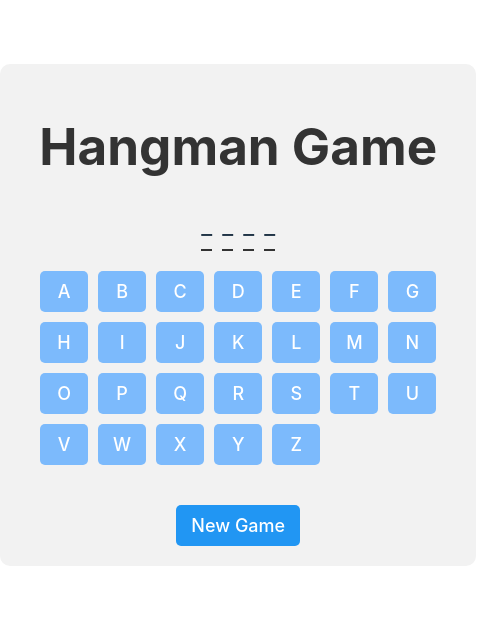
Test: HangmanGame › user loses the game when too many wrong letters are guessed
Click the button "F" at (354, 292), box [330,272,378,312]
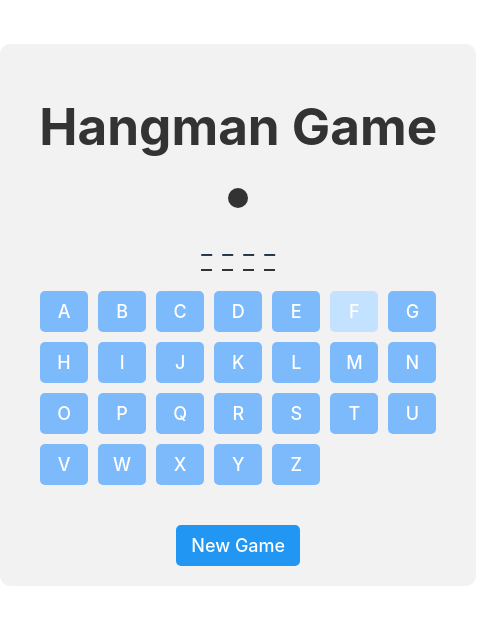
Click the button "Q" at (180, 414), box [156,394,204,434]
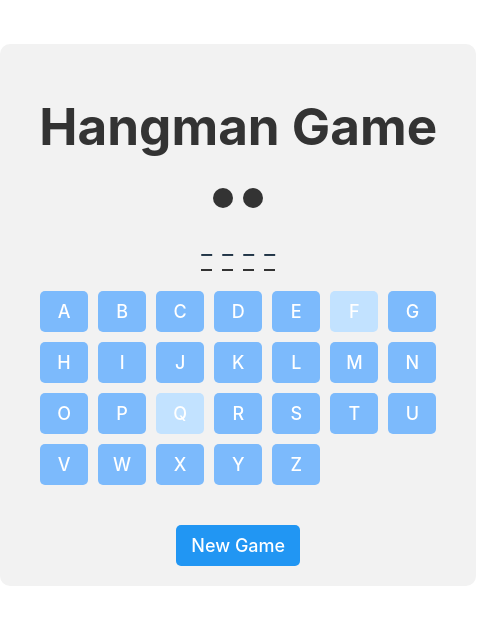
Click the button "A" at (64, 312), box [40,292,88,332]
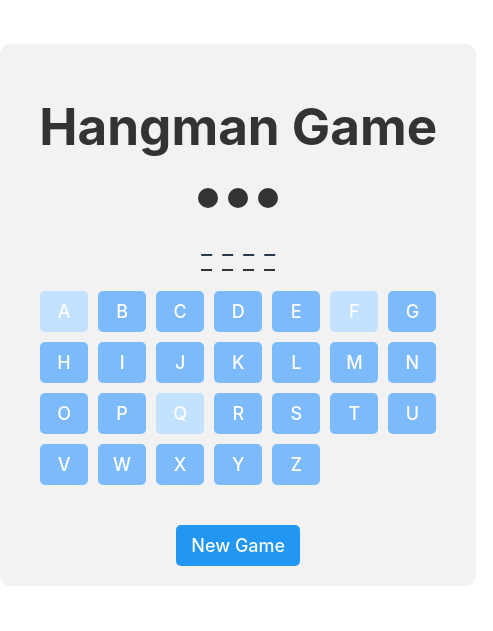
Click the button "K" at (238, 363), box [214,342,262,384]
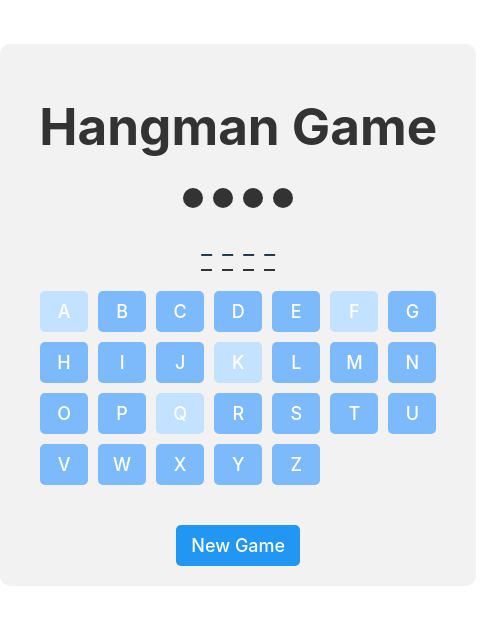
Click the button "L" at (296, 363), box [272,342,320,384]
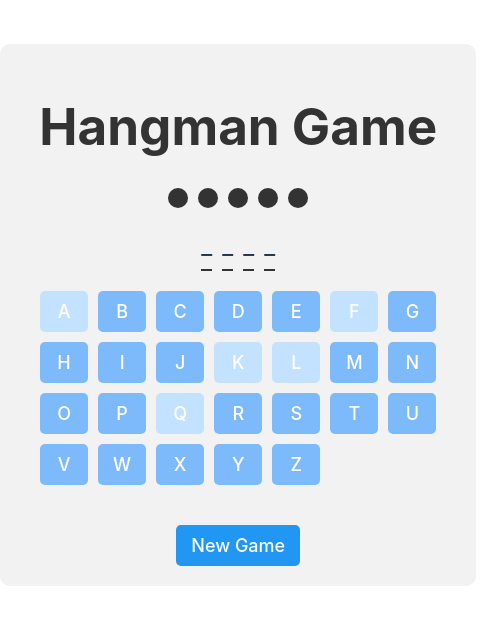
Click the button "P" at (122, 414), box [98,394,146,434]
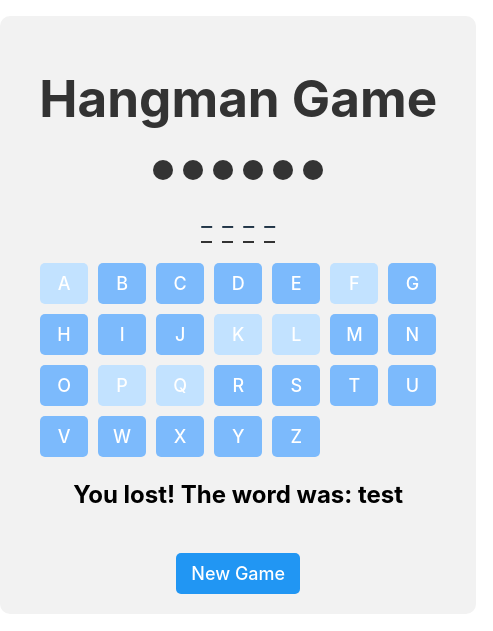
Check: the text "You lost! The word was: test" is shown, box [73,480,403,510]
